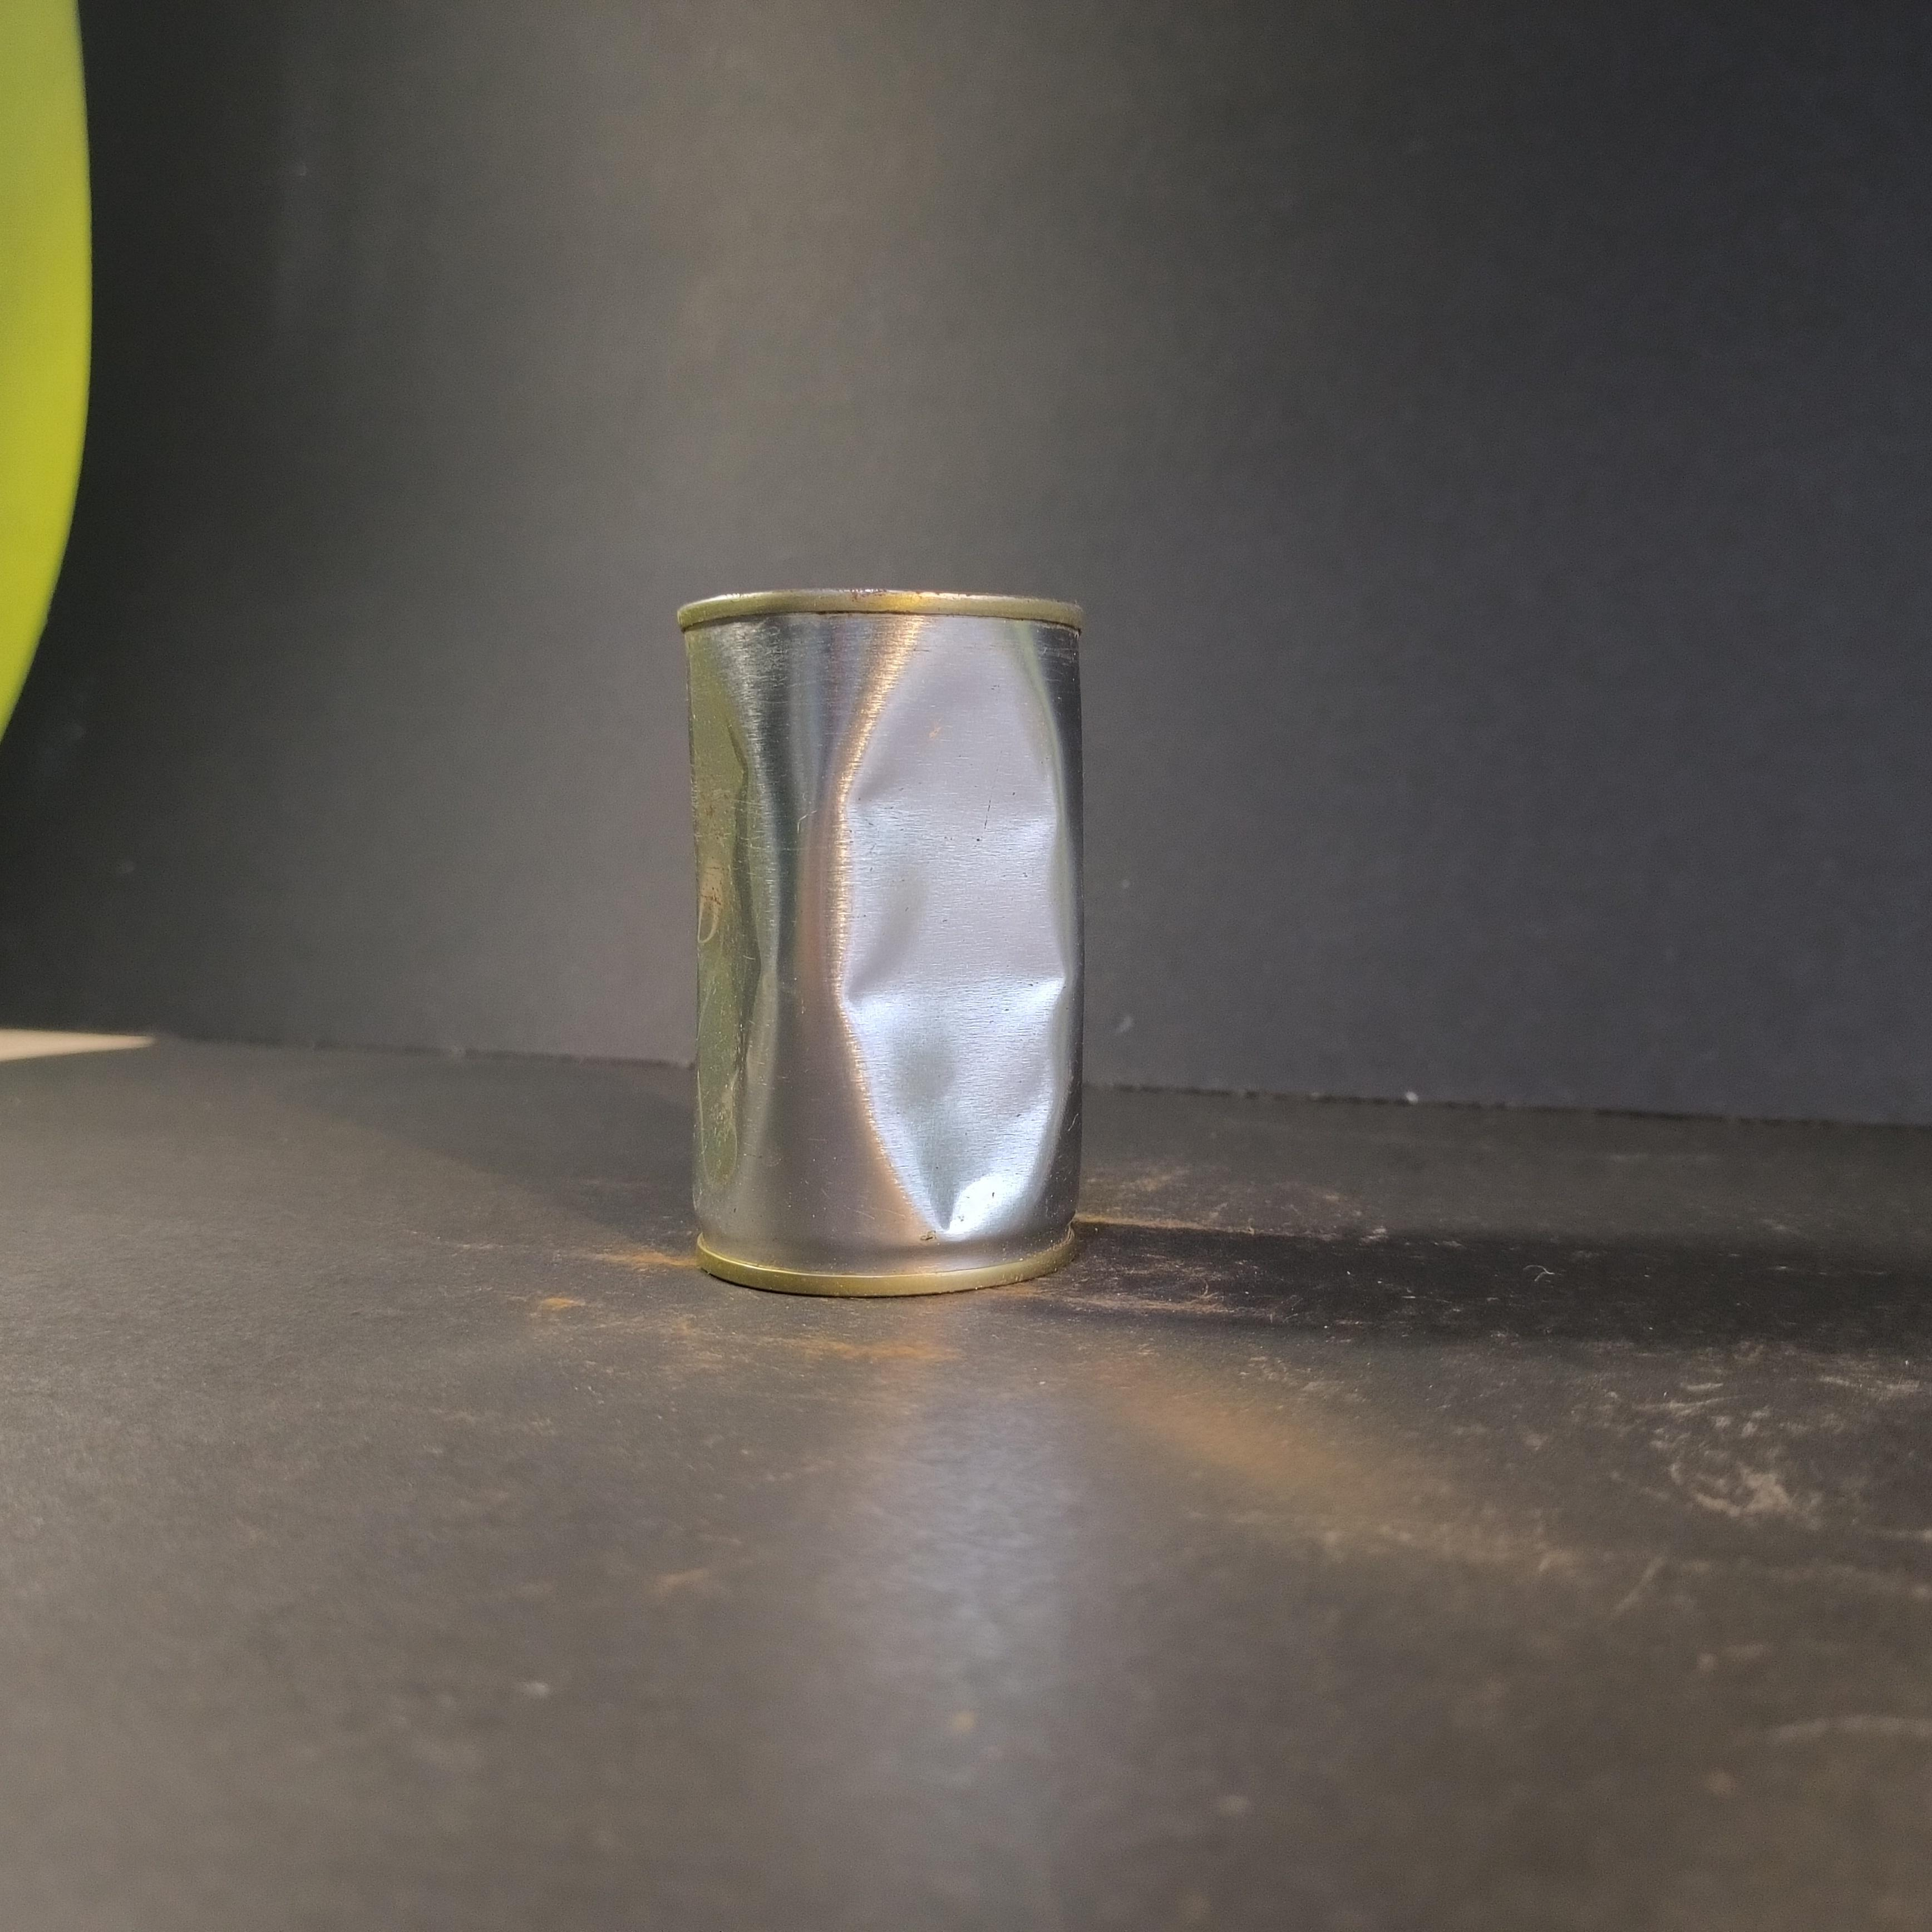Dented: (642, 554, 1104, 1299)
